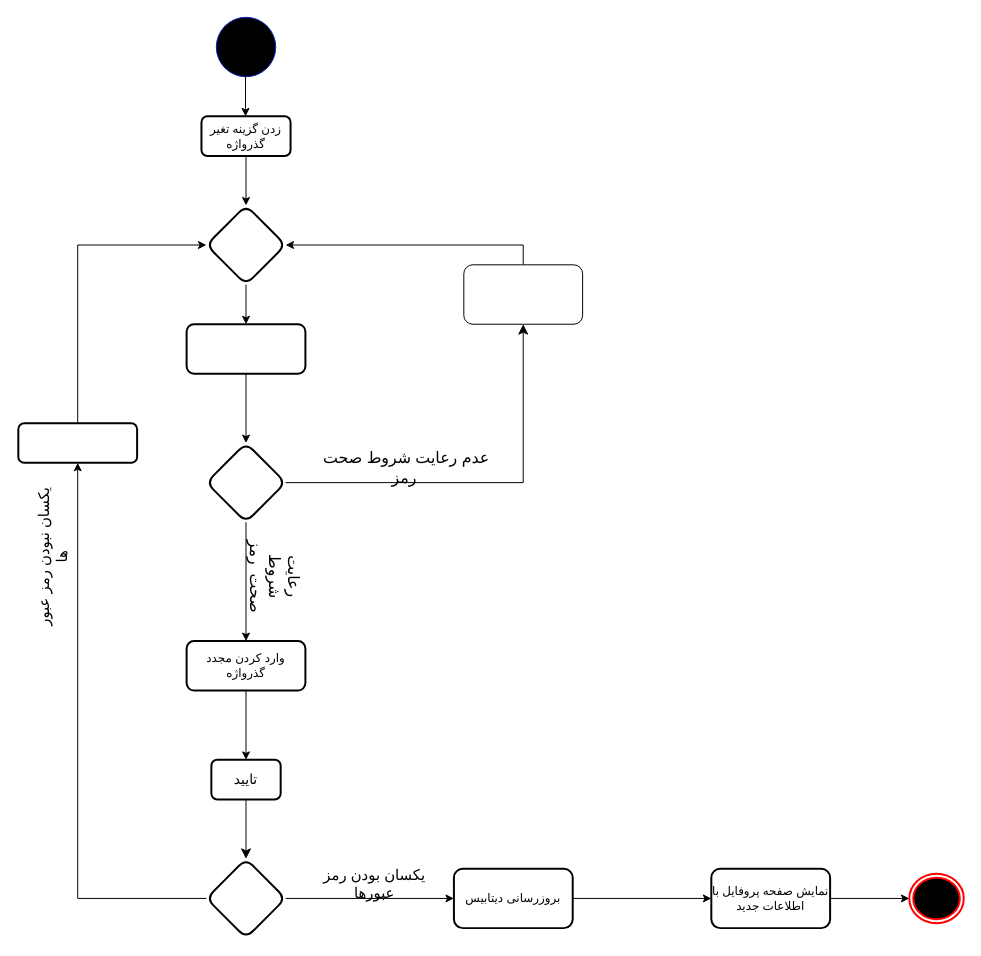
Image size: 981x956. Some labels were removed from this diagram. Each missing label, with the centre of its shape:
نمایش پیغام خطا: [77,442]
نمایش پیغام"شروط رعایت نشده": [523,294]
وارد کرد گذرواژه جدید: [245,348]
